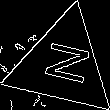N_W: (34, 40, 90, 90)
